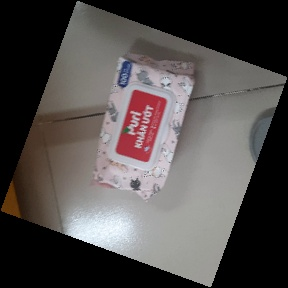Puri hong: (93, 53, 197, 204)
